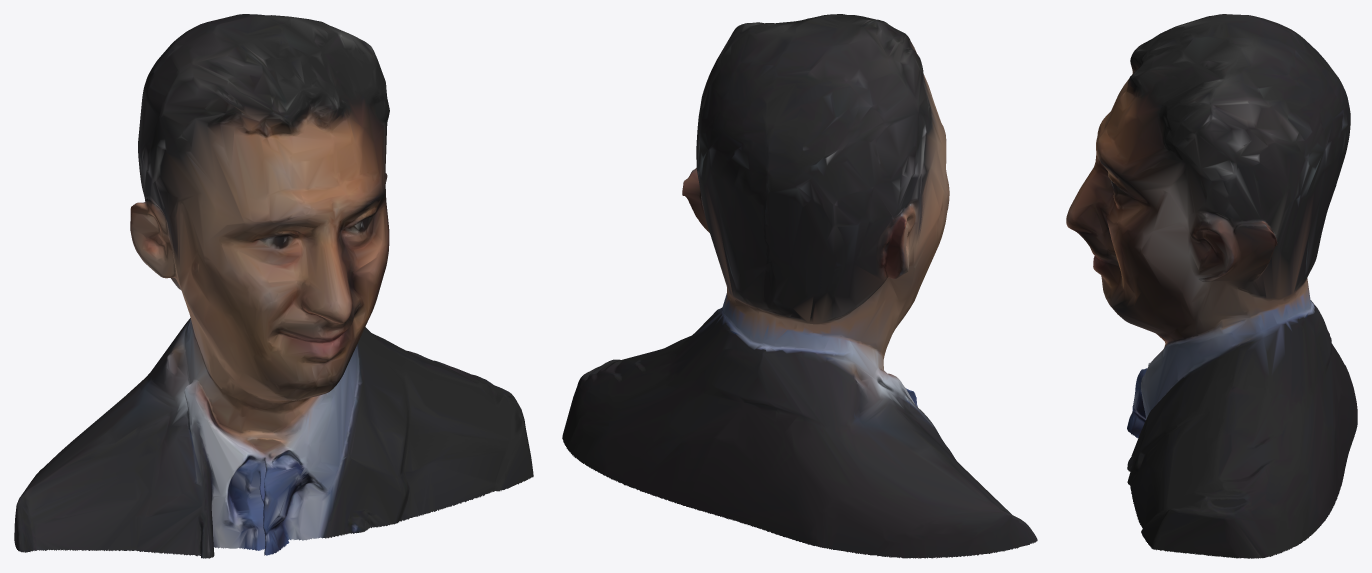
Rendered from Mr_Amer.glb.
3 views of the same model, side by side, from view 1: azimuth 30°, elevation 25°; view 2: azimuth 150°, elevation 25°; view 3: azimuth 270°, elevation 25° (orthographic). The views are drawn at different scales.
Parts seen in each view (by area): view 1: Mr.Amer.004; view 2: Mr.Amer.004; view 3: Mr.Amer.004.
Part boxes in pixels (x1,y1,x2,y2): Mr.Amer.004: (14, 14, 533, 558); Mr.Amer.004: (562, 14, 1037, 558); Mr.Amer.004: (1066, 14, 1357, 558).
Bounding box in the file's own units: 9.15 × 8.54 × 5.37.
